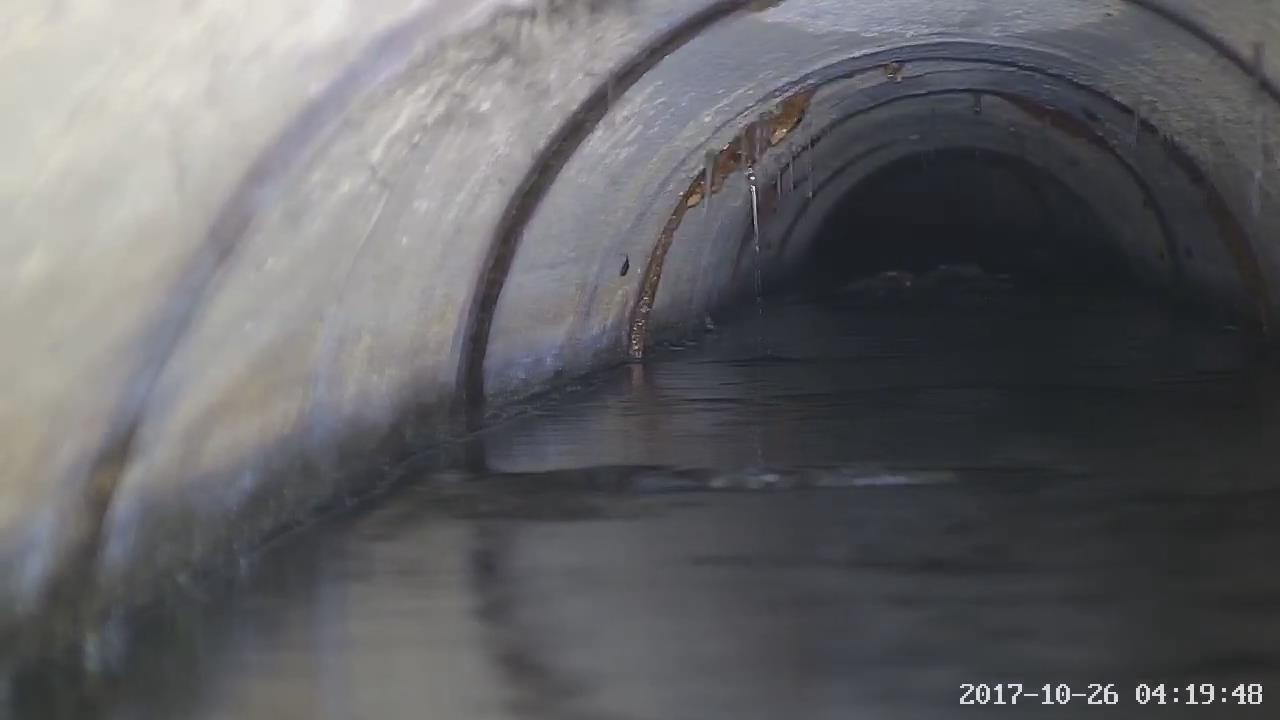SL: (670, 111, 844, 346)
